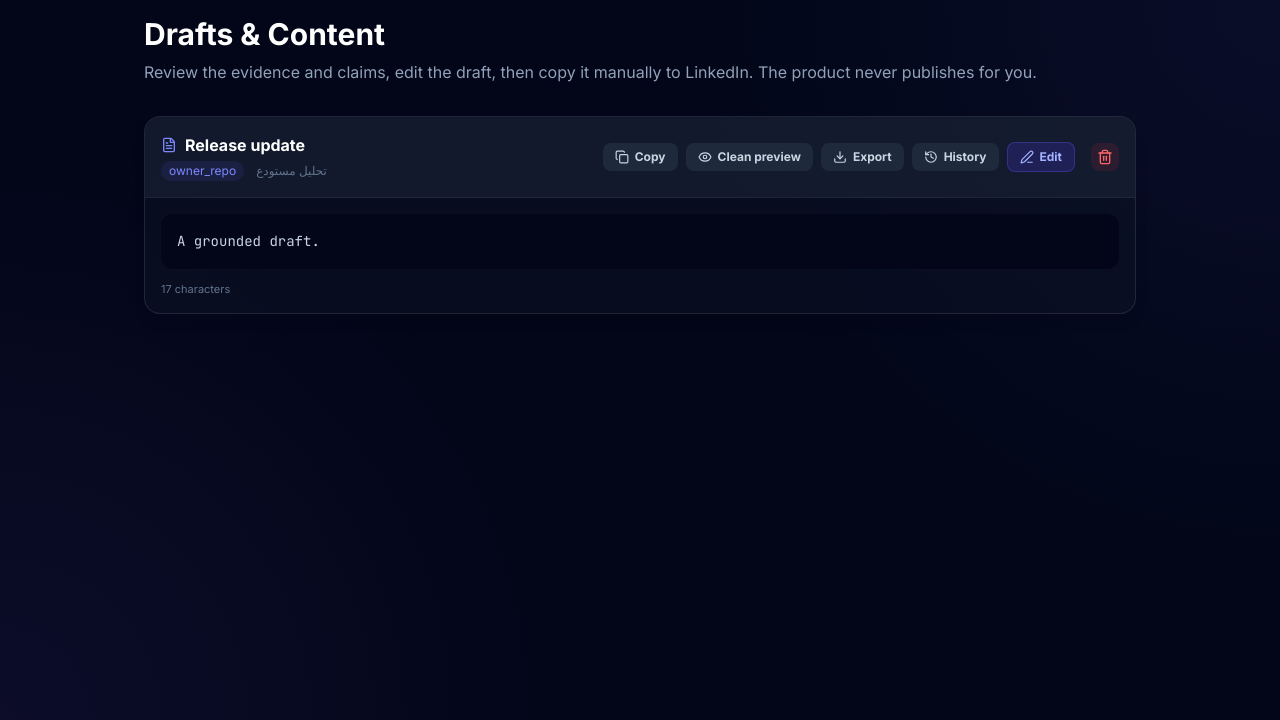
DraftsDashboard copy recovery › does not claim success when the clipboard rejects
Check: the heading "Release update" is shown, box [161,133,327,157]
Click the button "Copy" at [640, 157], box [603,143,678,171]
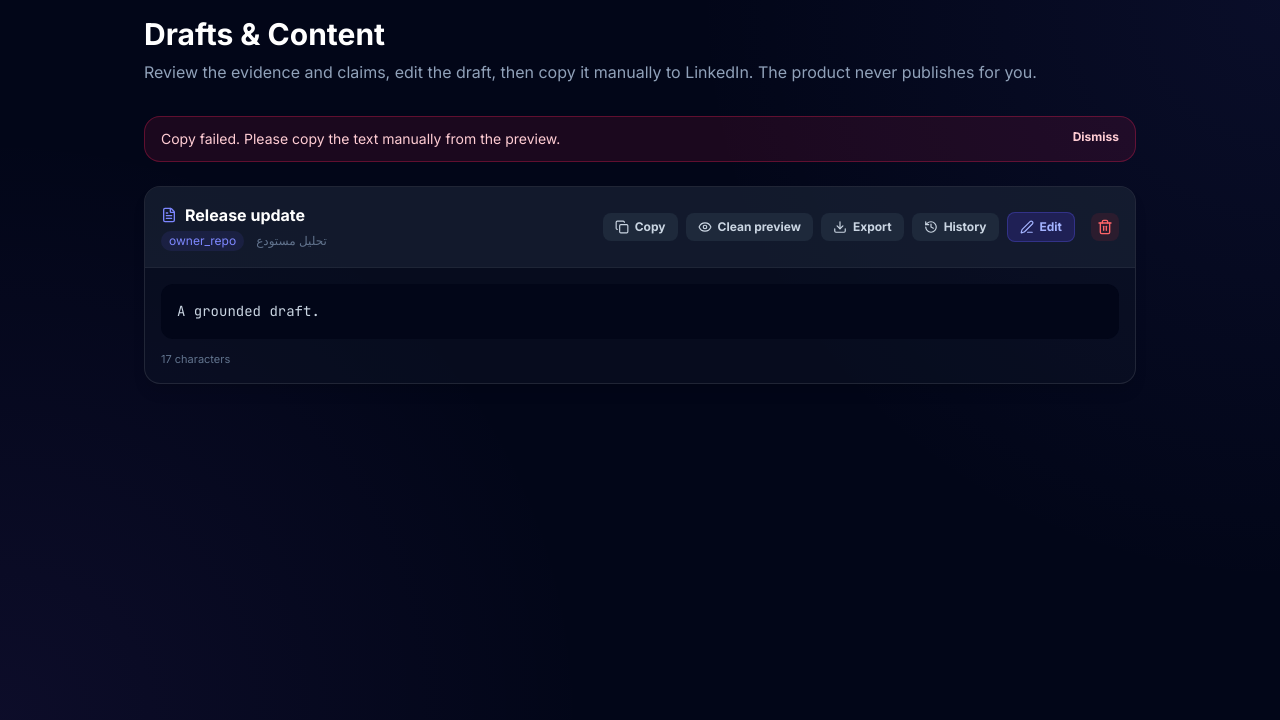
Check: the message shows "Copy failed. Please copy the text manually from the preview.", box [161,130,560,147]
